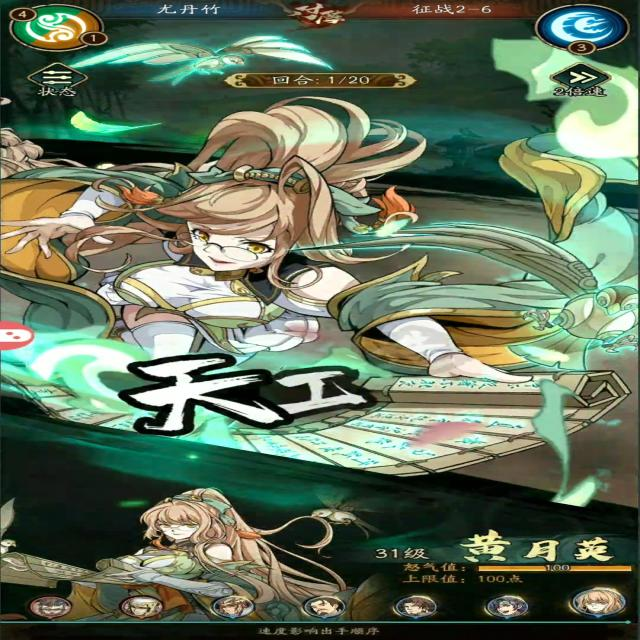hint-guide: (241, 614, 395, 640)
operation-fightspeed: (526, 65, 610, 98)
operation-status: (26, 60, 100, 100)
